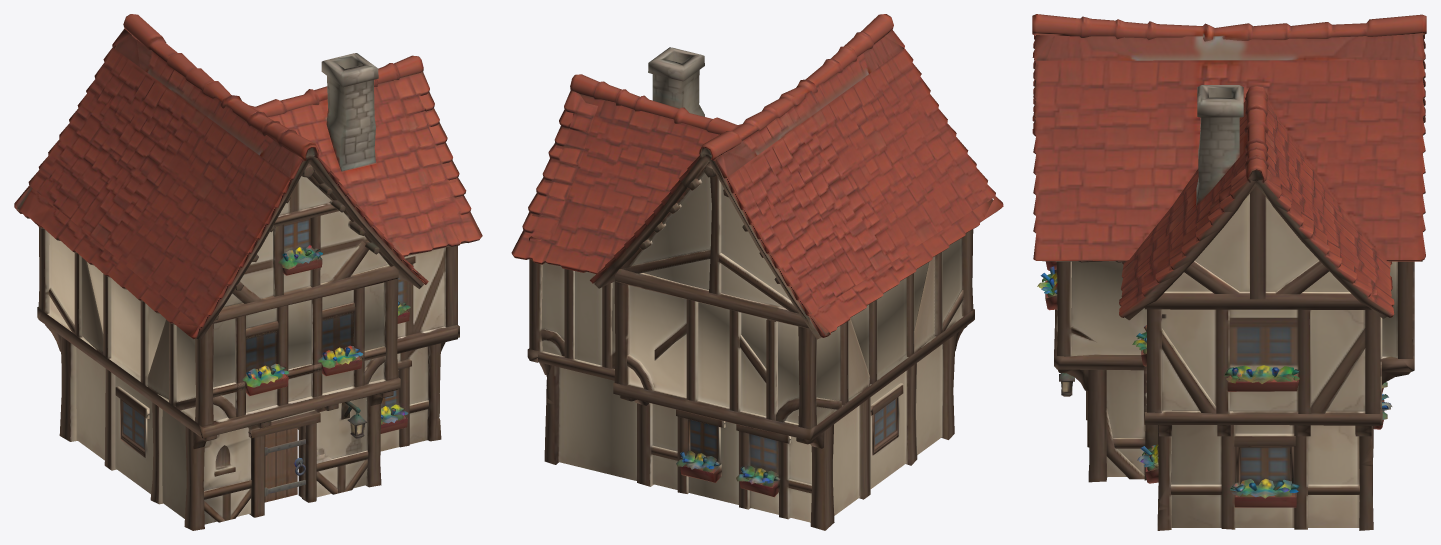
The model's file is casa_forja_medieval.glb.
The picture shows the model from 3 angles, left to right: view 1: azimuth 30°, elevation 25°; view 2: azimuth 150°, elevation 25°; view 3: azimuth 270°, elevation 25°; orthographic projection. The views are drawn at different scales.
Visible parts, largest first — view 1: tripo_node_1598f22a-7ac2-4f1c-a32f-488ae1b0365e; view 2: tripo_node_1598f22a-7ac2-4f1c-a32f-488ae1b0365e; view 3: tripo_node_1598f22a-7ac2-4f1c-a32f-488ae1b0365e.
Part boxes in pixels (<box>): tripo_node_1598f22a-7ac2-4f1c-a32f-488ae1b0365e: <box>14,14,482,530</box>; tripo_node_1598f22a-7ac2-4f1c-a32f-488ae1b0365e: <box>511,14,1003,530</box>; tripo_node_1598f22a-7ac2-4f1c-a32f-488ae1b0365e: <box>1032,14,1426,530</box>.
Size of the model in its own units: 0.9155 by 0.9995 by 0.856.
Materials: 1 (1 with a texture image).
